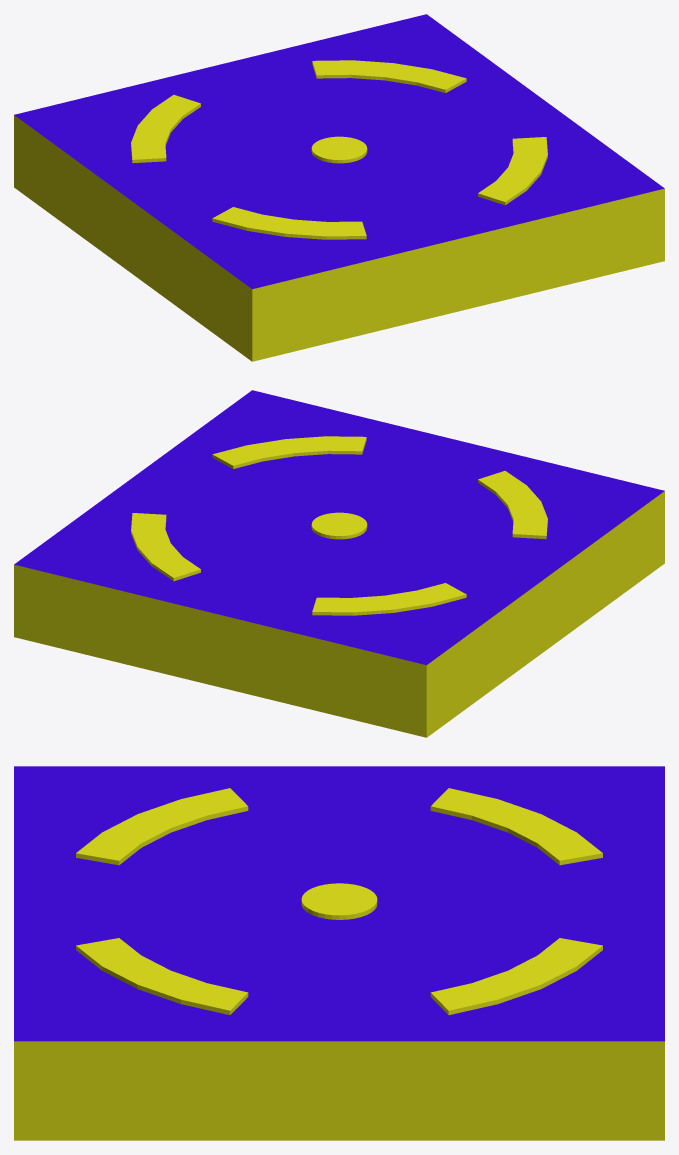
3 views of the same model, one above another, from view 1: azimuth 30°, elevation 25°; view 2: azimuth 150°, elevation 25°; view 3: azimuth 270°, elevation 25° (orthographic). The views are drawn at different scales.
Visible parts, largest first — view 1: Cube, Circle; view 2: Cube, Circle; view 3: Cube, Circle.
Part boxes in pixels (left/top/right/bottom): Cube: left=14, top=14, right=664, bottom=361; Circle: left=131, top=60, right=547, bottom=239; Cube: left=14, top=390, right=664, bottom=737; Circle: left=131, top=436, right=547, bottom=615; Cube: left=14, top=766, right=664, bottom=1140; Circle: left=76, top=788, right=602, bottom=1014.
Bounding box in the file's own units: 616 × 108 × 616.
